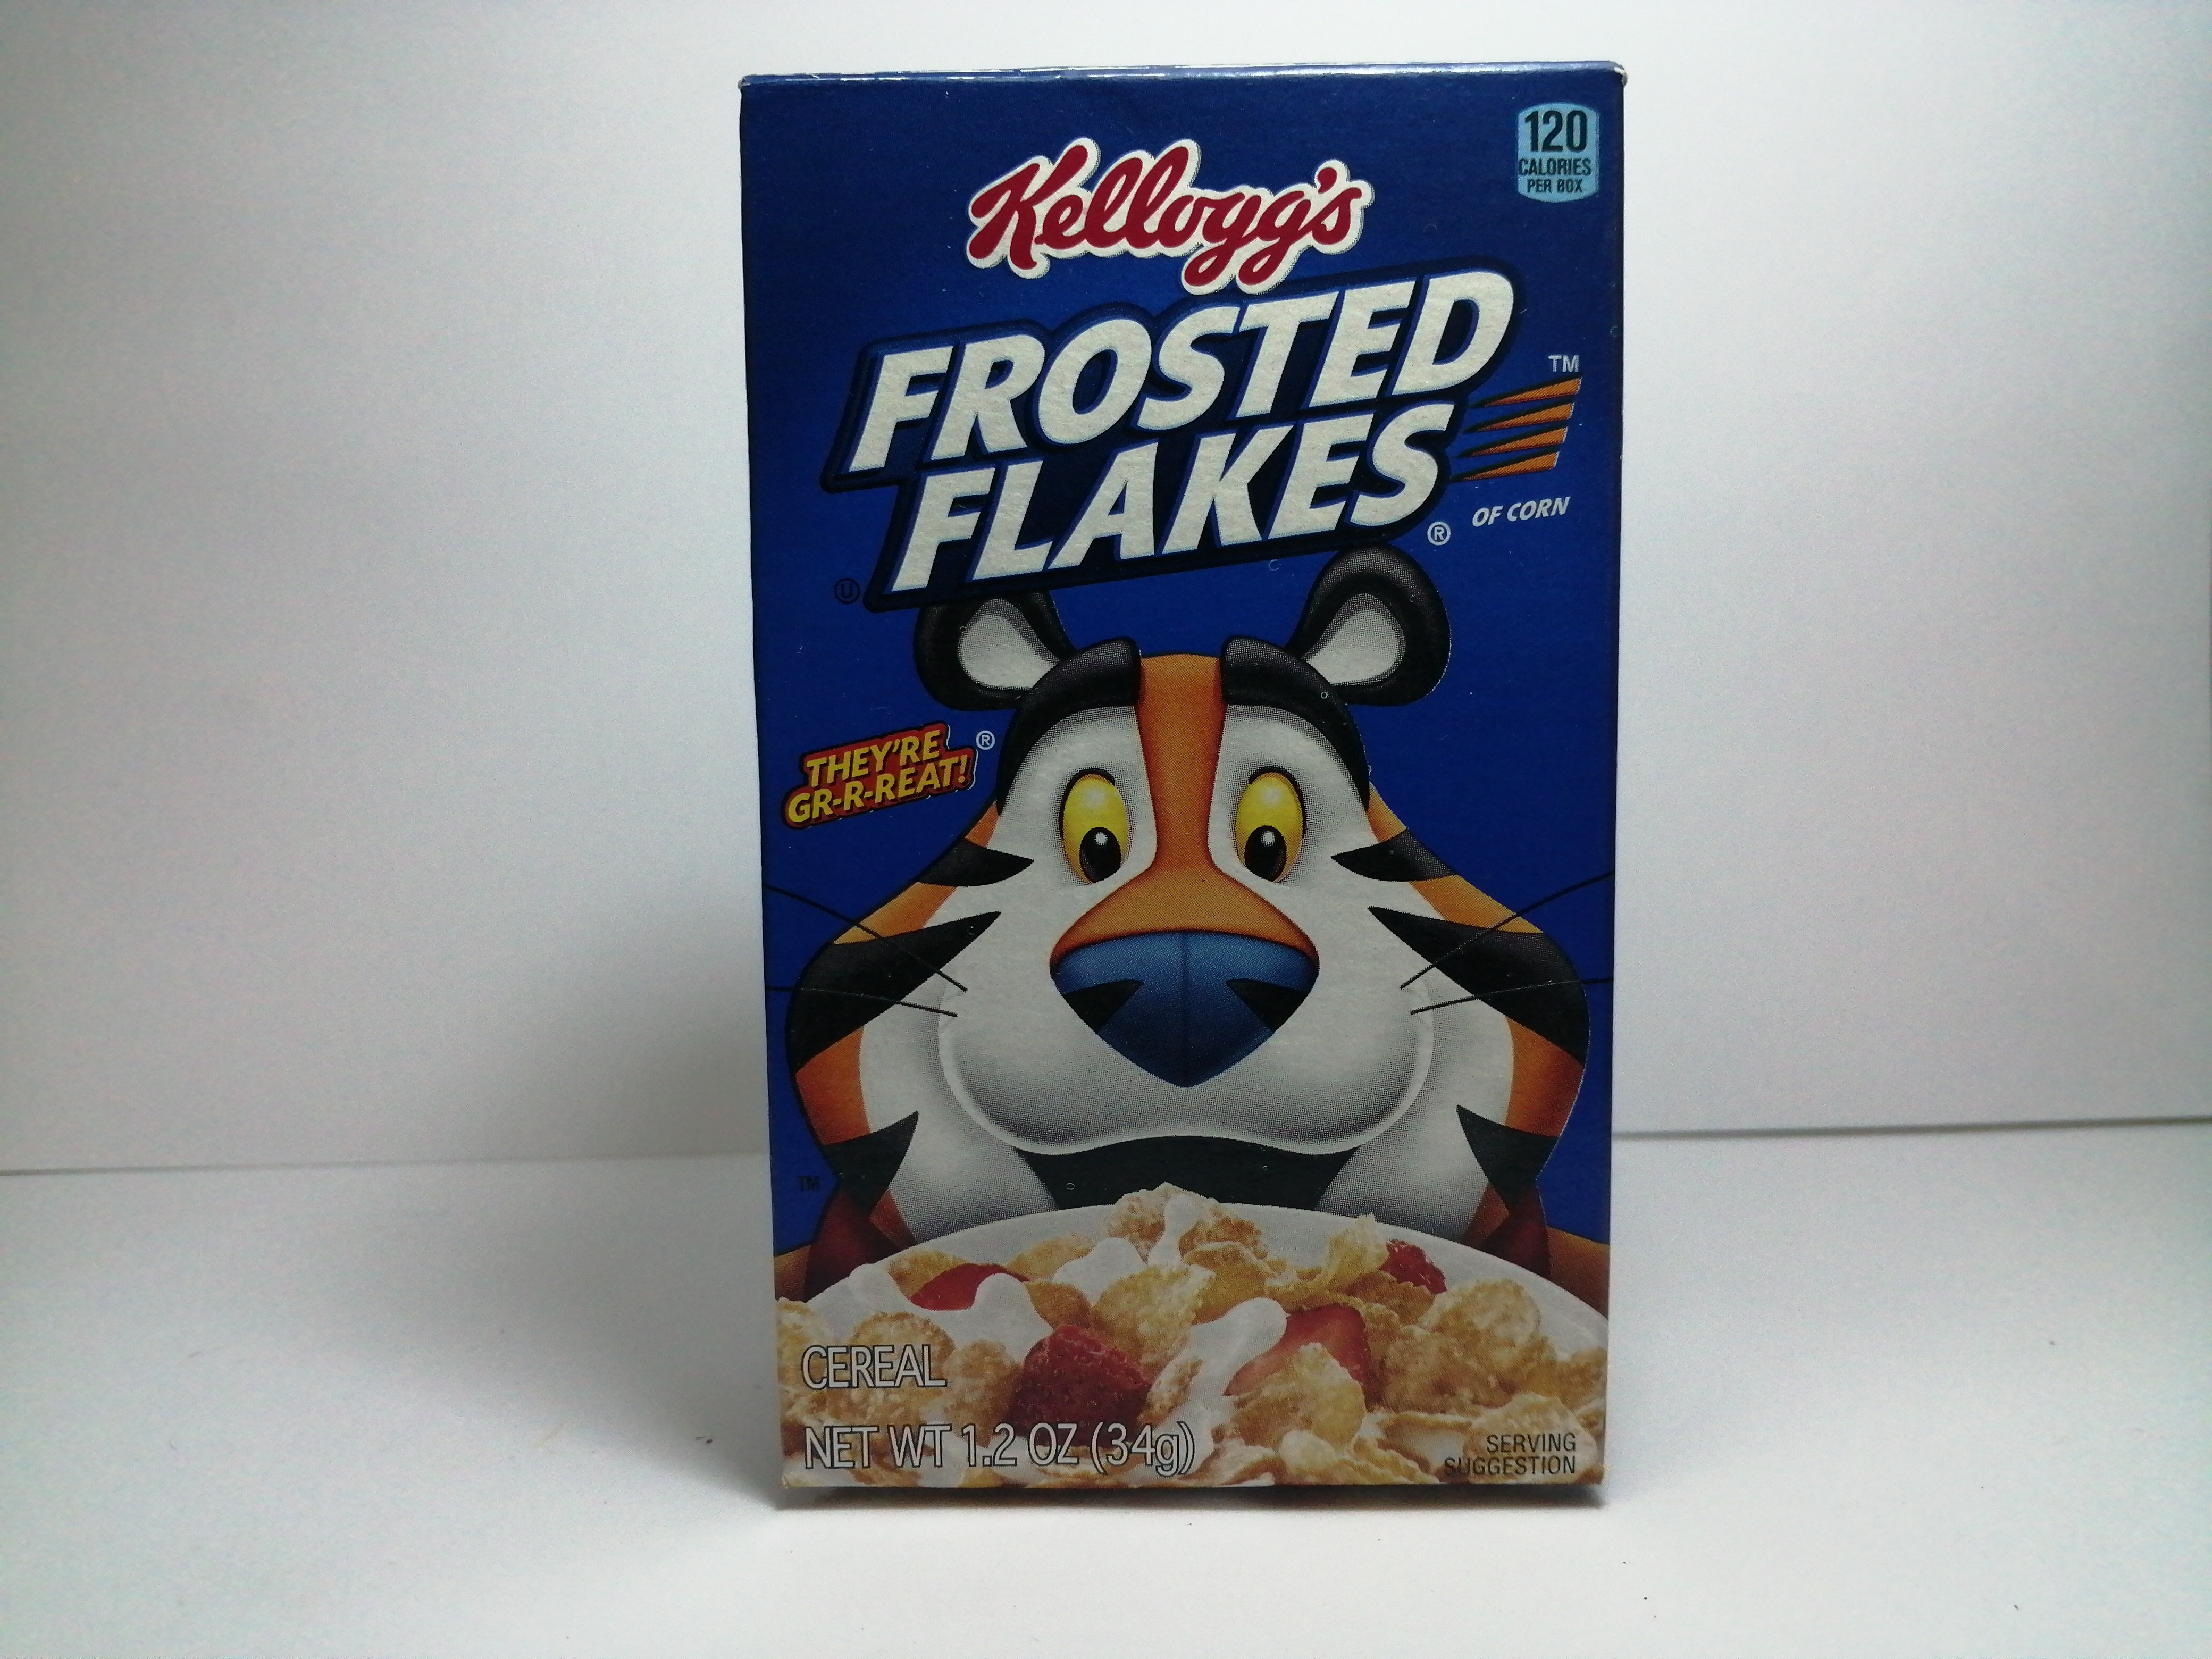cereal azucarado: (721, 40, 1644, 1521)
